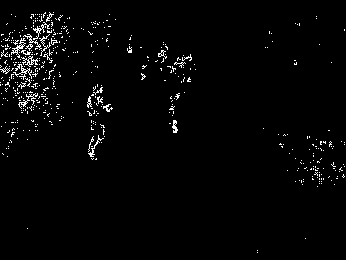person: (87, 83, 113, 162)
